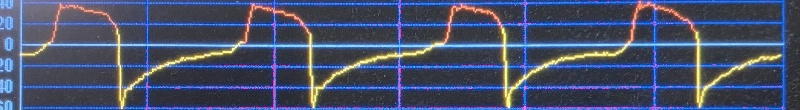normal_flow: (19, 0, 786, 110)
